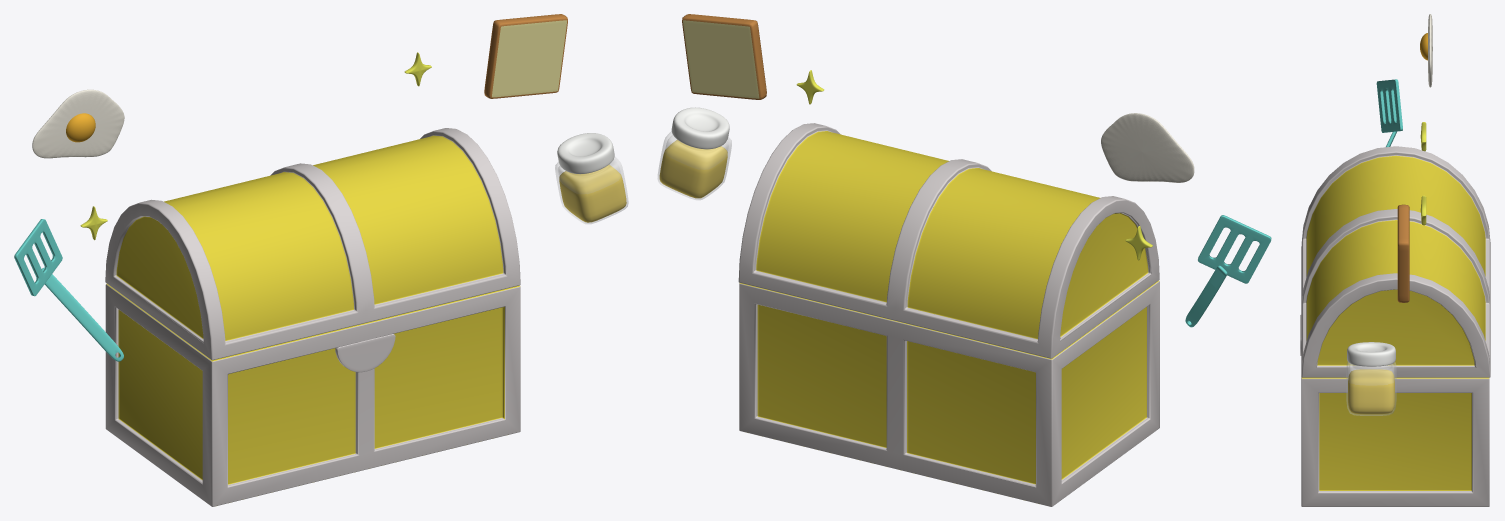
3 renders of one model, left to right at view 1: azimuth 30°, elevation 25°; view 2: azimuth 150°, elevation 25°; view 3: azimuth 270°, elevation 25°, orthographic. The views are drawn at different scales.
Visible parts, largest first — view 1: Cylinder, Cube, Cube.066, Circle.015, 瓶.001, ジャム.001, 蓋.001, Cube.035, Cylinder.001, Cube.034, Sphere.016; view 2: Cylinder, Cube, Cube.066, Circle.015, 瓶.001, ジャム.001, Cube.035, 蓋.001, Cube.034; view 3: Cylinder, Cube, 瓶.001, ジャム.001, Cube.066, Cube.035, 蓋.001, Circle.015.
Boxes of the visible parts, box(x1,y1,x2,y2) form: Cylinder: box(105, 128, 520, 360); Cube: box(105, 283, 520, 506); Cube.066: box(484, 14, 567, 98); Circle.015: box(32, 89, 124, 158); 瓶.001: box(555, 156, 628, 223); ジャム.001: box(559, 165, 626, 222); 蓋.001: box(557, 133, 614, 174); Cube.035: box(14, 219, 62, 296); Cylinder.001: box(335, 334, 395, 372); Cube.034: box(41, 267, 123, 361); Sphere.016: box(66, 113, 95, 142); Cylinder: box(738, 123, 1159, 358); Cube: box(739, 280, 1159, 506); Cube.066: box(682, 14, 766, 99); Circle.015: box(1101, 113, 1194, 182); 瓶.001: box(657, 131, 731, 199); ジャム.001: box(659, 140, 727, 198); Cube.035: box(1198, 215, 1271, 283); 蓋.001: box(671, 107, 729, 149); Cube.034: box(1185, 265, 1227, 327); Cylinder: box(1301, 146, 1490, 377); Cube: box(1301, 246, 1489, 506); 瓶.001: box(1346, 362, 1396, 415); ジャム.001: box(1348, 369, 1394, 414); Cube.066: box(1397, 204, 1409, 302); Cube.035: box(1376, 79, 1402, 132); 蓋.001: box(1347, 342, 1395, 366); Circle.015: box(1428, 14, 1432, 87).
Bounding box in the file's own units: 1.34 × 0.804 × 0.4167.
